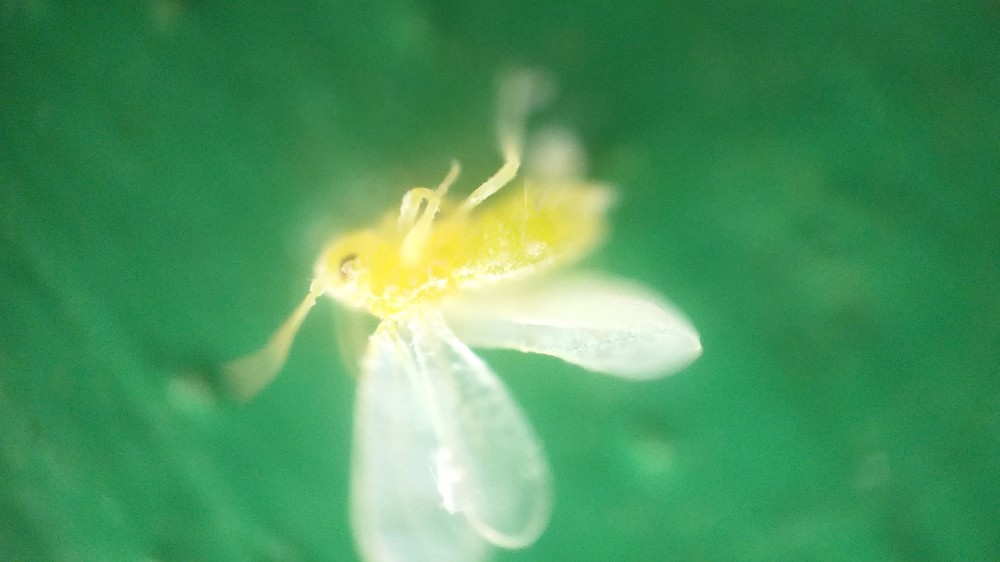Mosca Blanca: (227, 78, 746, 561)
